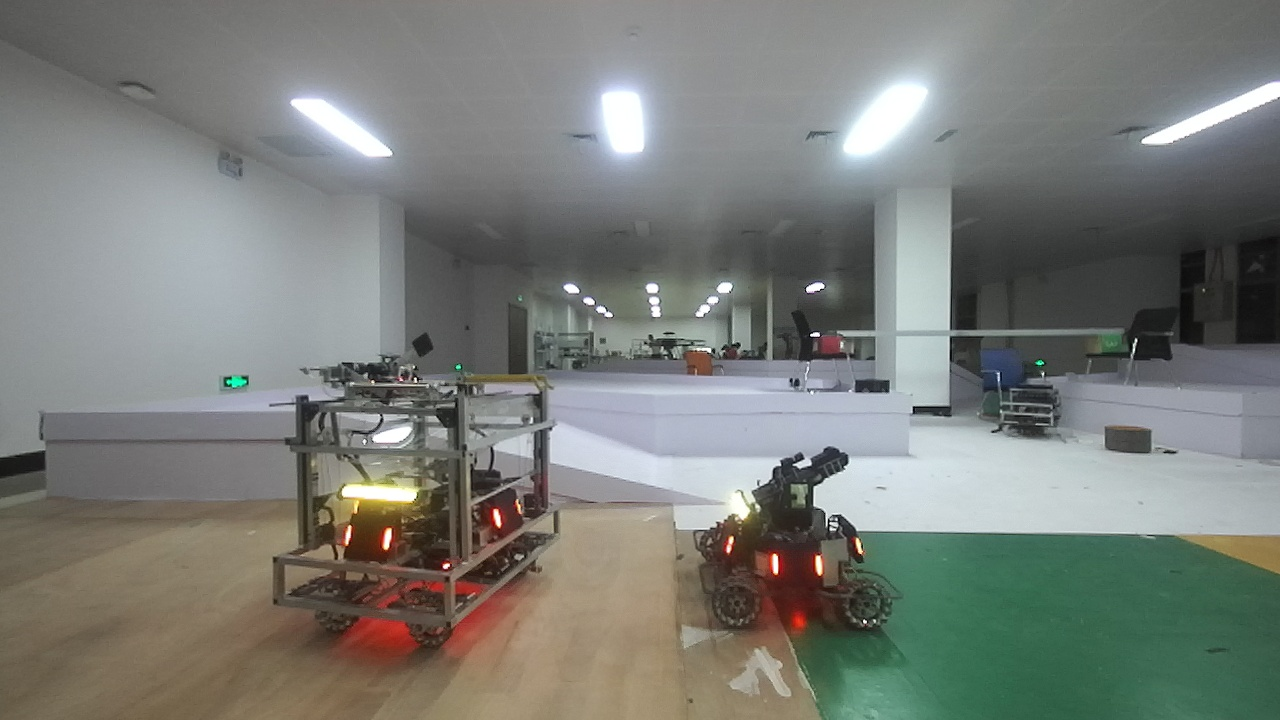car: (275, 362, 554, 641), (692, 452, 893, 653)
